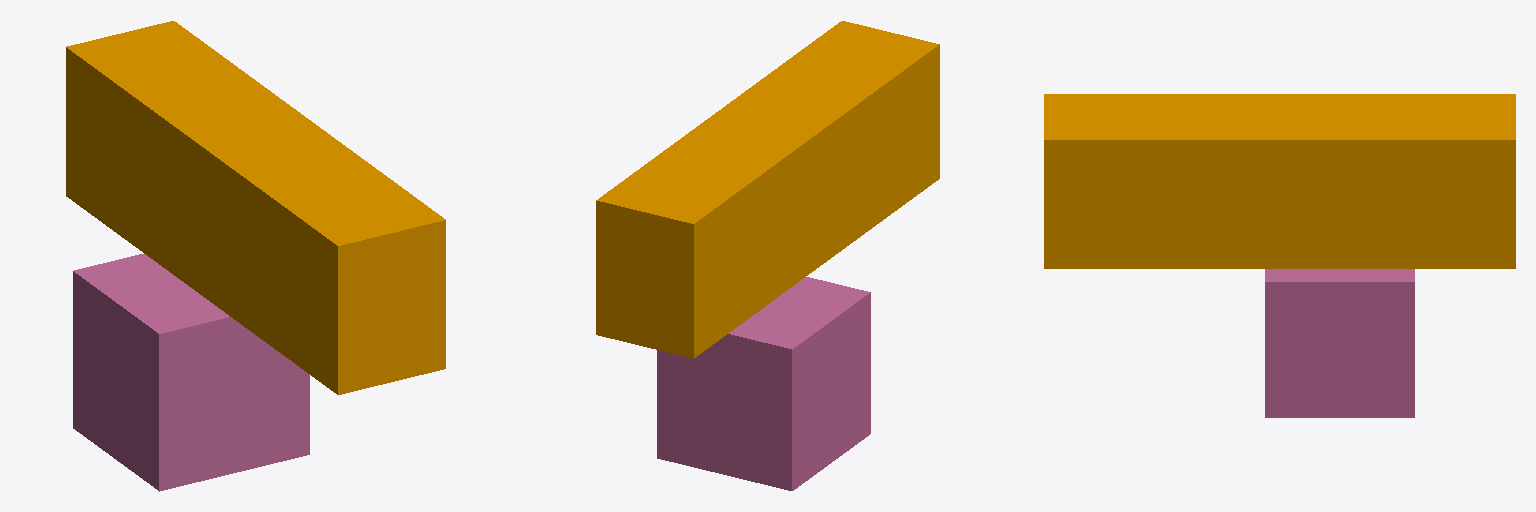
robot.urdf — freight:
<robot name="freight">
  <link name="base_link">
    <inertial>
      <origin rpy="0 0 0" xyz="-0.0036 0.0 0.0014" />
      <mass value="70.1294" />
      <!-- <inertia ixx="0" ixy="0" ixz="0" iyy="0" iyz="0" izz="0" /> -->
      <inertia ixx="1.225" ixy="0.0099" ixz="0.0062" iyy="1.2853" iyz="-0.0034" izz="0.987" />
    </inertial>
    <visual>
      <origin rpy="0 0 0" xyz="0 0 0" />
      <geometry>
        <mesh filename="package://fetch_description/meshes/base_link.dae" />
      </geometry>
      <material name="">
        <color rgba="0.356 0.361 0.376 1" />
      </material>
    </visual>
    <collision>
      <origin rpy="0 0 0" xyz="0 0 0" />
      <geometry>
        <mesh filename="package://fetch_description/meshes/base_link_collision.STL" />
      </geometry>
    </collision>
  </link>
  <link name="r_wheel_link">
    <inertial>
      <origin rpy="0 0 0" xyz="0 0 0" />
      <mass value="4.3542" />
      <!-- <inertia ixx="0" ixy="0" ixz="0" iyy="0" iyz="0" izz="0" /> -->
      <inertia ixx="0.0045" ixy="0" ixz="0" iyy="0.005" iyz="0" izz="0.0045" />
    </inertial>
    <visual>
      <origin rpy="0 0 0" xyz="0 0 0" />
      <geometry>
        <mesh filename="package://fetch_description/meshes/r_wheel_link.STL" />
      </geometry>
      <material name="">
        <color rgba="0.086 0.506 0.767 1" />
      </material>
    </visual>
    <collision>
      <origin rpy="0 0 0" xyz="0 0 0" />
      <geometry>
        <mesh filename="package://fetch_description/meshes/r_wheel_link_collision.STL" />
      </geometry>
    </collision>
  </link>
  <joint name="r_wheel_joint" type="continuous">
    <origin rpy="-6.123E-17 0 0" xyz="0.0012914 -0.18738 0.055325" />
    <parent link="base_link" />
    <child link="r_wheel_link" />
    <axis xyz="0 1 0" />
  <limit effort="8.85" velocity="34.8" /></joint>
  <link name="l_wheel_link">
    <inertial>
      <origin rpy="0 0 0" xyz="0 0 0" />
      <mass value="4.3542" />
      <!-- <inertia ixx="0" ixy="0" ixz="0" iyy="0" iyz="0" izz="0" /> -->
      <inertia ixx="0.0045" ixy="0" ixz="0" iyy="0.005" iyz="0" izz="0.0045" />
    </inertial>
    <visual>
      <origin rpy="0 0 0" xyz="0 0 0" />
      <geometry>
        <mesh filename="package://fetch_description/meshes/l_wheel_link.STL" />
      </geometry>
      <material name="">
        <color rgba="0.086 0.506 0.767 1" />
      </material>
    </visual>
    <collision>
      <origin rpy="0 0 0" xyz="0 0 0" />
      <geometry>
        <mesh filename="package://fetch_description/meshes/l_wheel_link_collision.STL" />
      </geometry>
    </collision>
  </link>
  <joint name="l_wheel_joint" type="continuous">
    <origin rpy="-6.123E-17 0 0" xyz="0.0012914 0.18738 0.055325" />
    <parent link="base_link" />
    <child link="l_wheel_link" />
    <axis xyz="0 1 0" />
  <limit effort="8.85" velocity="34.8" /></joint>
  <link name="estop_link">
    <inertial>
      <origin rpy="0 0 0" xyz="0.002434512737072 -0.00330608315239905 0.00665139196650039" />
      <mass value="0.00196130439134723" />
      <!-- <inertia ixx="0" ixy="0" ixz="0" iyy="0" iyz="0" izz="0" /> -->
      <inertia ixx="3.02810026604417E-07" ixy="-1.5862023118056E-08" ixz="3.16561396557437E-08" iyy="2.93322917127605E-07" iyz="-4.28833522751273E-08" izz="2.28513272627183E-07" />
    </inertial>
    <visual>
      <origin rpy="0 0 0" xyz="0 0 0" />
      <geometry>
        <mesh filename="package://fetch_description/meshes/estop_link.STL" />
      </geometry>
      <material name="">
        <color rgba="0.8 0 0 1" />
      </material>
    </visual>
    <collision>
      <origin rpy="0 0 0" xyz="0 0 0" />
      <geometry>
        <mesh filename="package://fetch_description/meshes/estop_link.STL" />
      </geometry>
    </collision>
  </link>
  <joint name="estop_joint" type="fixed">
    <origin rpy="1.5708 0 0" xyz="-0.12465 0.23892 0.31127" />
    <parent link="base_link" />
    <child link="estop_link" />
    <axis xyz="0 0 0" />
  </joint>
  <link name="laser_link">
    <inertial>
      <origin rpy="0 0 0" xyz="-0.0306228970175641 0.0007091682908278 0.0551974119471302" />
      <mass value="0.00833634573995571" />
      <!-- <inertia ixx="0" ixy="0" ixz="0" iyy="0" iyz="0" izz="0" /> -->
      <inertia ixx="1.01866461240801E-06" ixy="-5.88447626567756E-08" ixz="7.83857244757914E-08" iyy="5.10039589974707E-07" iyz="-7.12664289617235E-09" izz="1.28270671527309E-06" />
    </inertial>
    <visual>
      <origin rpy="0 0 0" xyz="0 0 0" />
      <geometry>
        <mesh filename="package://fetch_description/meshes/laser_link.STL" />
      </geometry>
      <material name="">
        <color rgba="0.792156862745098 0.819607843137255 0.933333333333333 1" />
      </material>
    </visual>
    <collision>
      <origin rpy="0 0 0" xyz="0 0 0" />
      <geometry>
        <mesh filename="package://fetch_description/meshes/laser_link.STL" />
      </geometry>
    </collision>
  </link>
  <joint name="laser_joint" type="fixed">
    <origin rpy="3.14159265359 0 0" xyz="0.235 0 0.2878" />
    <parent link="base_link" />
    <child link="laser_link" />
    <axis xyz="0 0 0" />
  </joint>

  <!-- 3D Depth Camera Frames-->
  <!-- <link name="base_camera_link" />
  <joint name="base_camera_joint" type="fixed">
    <origin rpy="0 0 0" xyz="0.2645 0 0.198" />
    <parent link="base_link" />
    <child link="base_camera_link" />
  </joint>
  <link name="base_camera_optical_frame" />
  <joint name="base_camera_optical_joint" type="fixed">
    <origin rpy="-1.57079632679 0 -3.14" xyz="0 0.198 0" />
    <parent link="base_camera_link" />
    <child link="base_camera_optical_frame" />
  </joint> -->

  <link name="head_camera_link" />
  <joint name="head_camera_joint" type="fixed">
    <origin rpy="0 0 0" xyz="0.2645 0 0.198" />
    <parent link="base_link" />
    <child link="head_camera_link" />
  </joint>
  <link name="head_camera_rgb_frame"> 
    <visual>
      <origin xyz="0 0 0" rpy="0 0 0"/>
      <geometry>
      <box size="0.05 0.05 0.05"/>
      </geometry>
    </visual>
  </link>
  <joint name="head_camera_rgb_joint" type="fixed">
    <origin rpy="0 0 0" xyz="0 0.02 0" />
    <parent link="head_camera_link" />
    <child link="head_camera_rgb_frame" />
  </joint>
  <link name="head_camera_rgb_optical_frame" />
  <joint name="head_camera_rgb_optical_joint" type="fixed">
    <origin rpy="-1.57079632679 0 -1.57079632679" xyz="0 0 0" />
    <parent link="head_camera_rgb_frame" />
    <child link="head_camera_rgb_optical_frame" />
  </joint>

  <!-- stereo camera -->
  <link name="stereo_left_frame">
    <collision>
      <origin xyz="0 0 0" rpy="0 0 0"/>
      <geometry>
    <box size="0.02 0.15 0.02"/>
      </geometry>
    </collision>

    <visual>
      <origin xyz="0 0 0" rpy="0 0 0"/>
      <geometry>
      <box size="0.036 0.157 0.0474"/>
      </geometry>
    </visual>

    <inertial>
      <mass value="1e-5" />
      <origin xyz="0 0 0" rpy="0 0 0"/>
      <!-- <inertia ixx="0" ixy="0" ixz="0" iyy="0" iyz="0" izz="0" /> -->
      <inertia ixx="1e-6" ixy="0" ixz="0" iyy="1e-6" iyz="0" izz="1e-6" />
    </inertial>
  </link>
  <joint name="left_stereo_camera_joint" type="fixed">
    <origin rpy="0 0 0" xyz="0.01 0 0.055" />
    <parent link="head_camera_link" />
    <child link="stereo_left_frame" />
  </joint>
  <link name="stereo_left_optical_frame" />
  <joint name="stereo_left_optical_joint" type="fixed">
    <origin rpy="-1.57079632679 0 -1.57079632679" xyz="0 0 0" />
    <parent link="stereo_left_frame" />
    <child link="stereo_left_optical_frame" />
  </joint>

  
  <link name="imu_link" />
  <joint name="imu_joint" type="fixed">
    <origin rpy="0 0 0" xyz="0 0 0" />
    <parent link="base_link" />
    <child link="imu_link" />
  </joint>


</robot>

--- What the picture shows (computed from the rendered views, not written in the file) ---
3 views of the same robot in one strip: view 1: azimuth 30°, elevation 25°; view 2: azimuth 150°, elevation 25°; view 3: azimuth 270°, elevation 25° (orthographic).
Robot: freight — 11 links, 10 joints (2 continuous, 8 fixed); root link base_link; default pose: all joints at 0.
Links seen in each view (by area): view 1: stereo_left_frame, head_camera_rgb_frame; view 2: stereo_left_frame, head_camera_rgb_frame; view 3: stereo_left_frame, head_camera_rgb_frame.
Boxes of the visible links, x1=… form: stereo_left_frame: x1=66, y1=21, x2=445, y2=394; head_camera_rgb_frame: x1=73, y1=254, x2=309, y2=491; stereo_left_frame: x1=596, y1=21, x2=939, y2=358; head_camera_rgb_frame: x1=657, y1=277, x2=870, y2=490; stereo_left_frame: x1=1044, y1=94, x2=1515, y2=268; head_camera_rgb_frame: x1=1265, y1=269, x2=1414, y2=417.
Bounding box of the posed robot: 0.053 × 0.157 × 0.1037 m (x, y, z).
Meshes: 5 distinct files referenced, 0 mesh visuals loaded (none loaded); not drawn: 5 (reference not matched to a file when rendering).